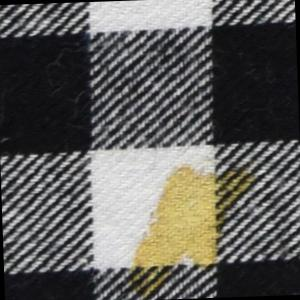Stain: (122, 160, 263, 300)
